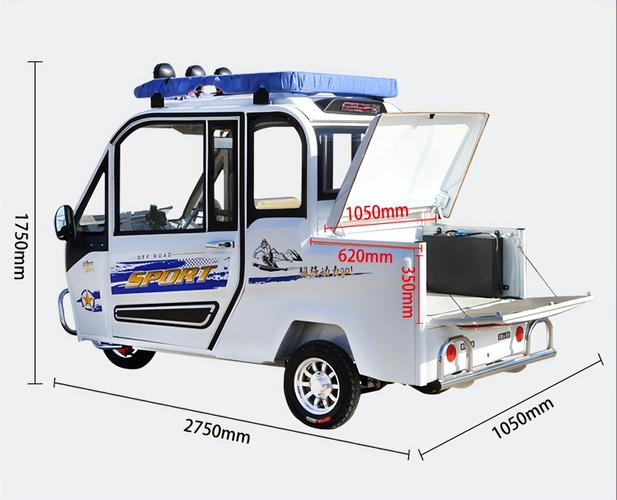empty: (22, 47, 598, 436)
